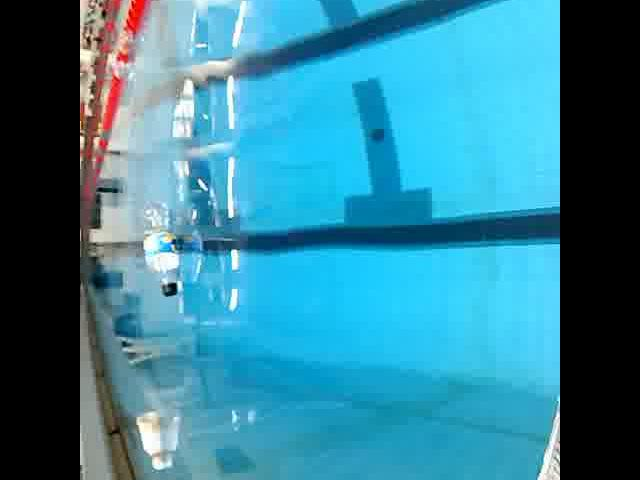Bottle: (132, 192, 190, 302), (130, 406, 170, 478)
